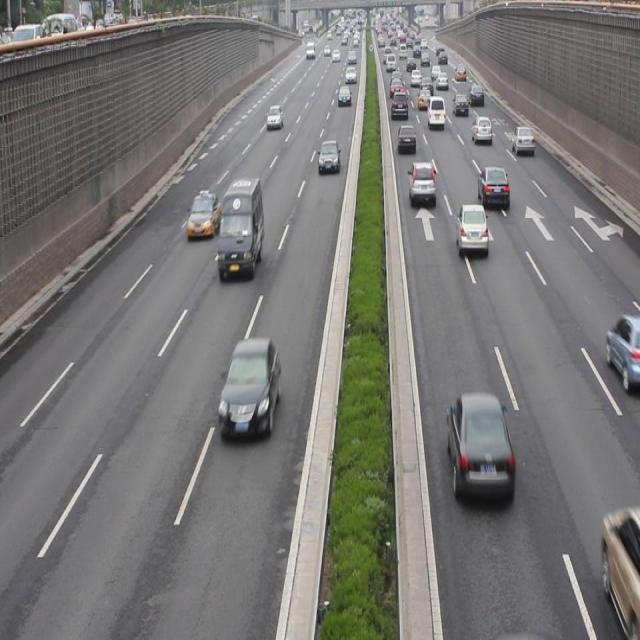car: (447, 391, 512, 505), (219, 342, 280, 438), (599, 504, 640, 630), (605, 311, 636, 391), (185, 190, 222, 240), (455, 203, 487, 257), (477, 166, 508, 210), (408, 161, 436, 206), (318, 140, 339, 172), (396, 122, 415, 154), (471, 113, 490, 144), (510, 127, 532, 153), (266, 105, 282, 130)
truck: (217, 177, 263, 279)
